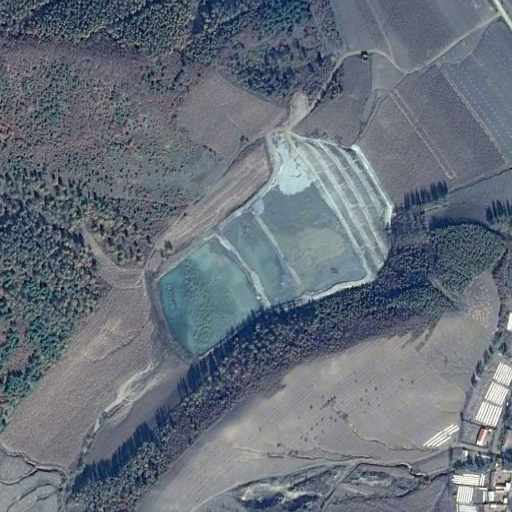tp: (157, 125, 399, 362)
